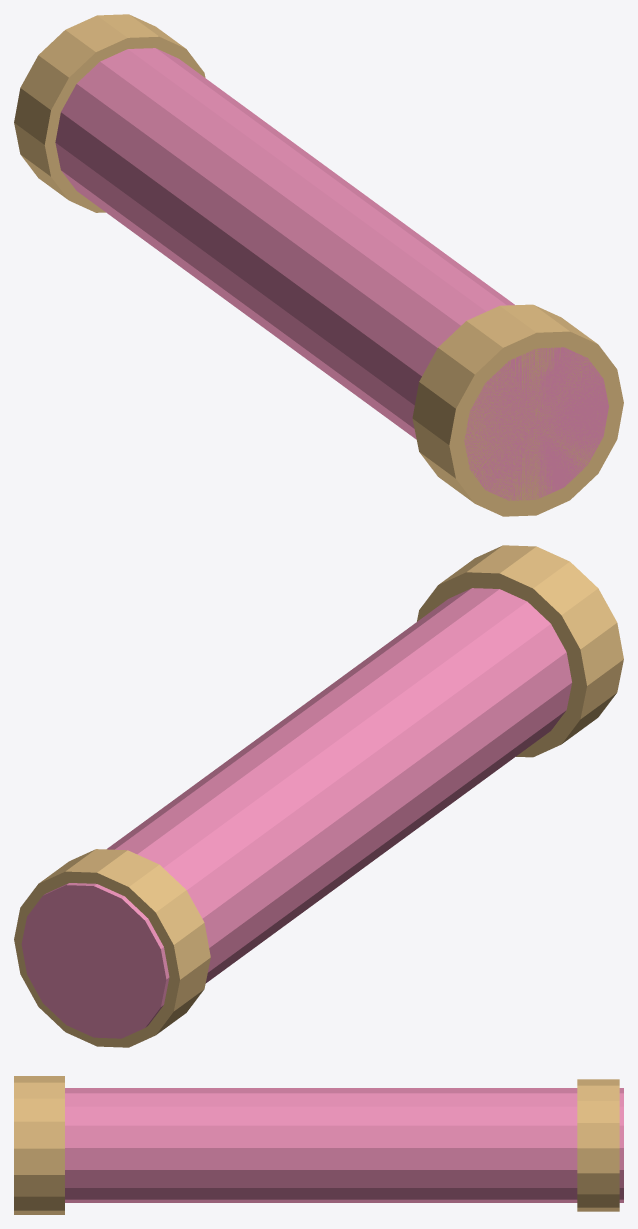
Rendered from BarrelExtender.obj.
The picture shows the model from 3 angles, top to bottom: view 1: azimuth 30°, elevation 25°; view 2: azimuth 150°, elevation 25°; view 3: azimuth 270°, elevation 25°; orthographic projection. The views are drawn at different scales.
Parts seen in each view (by area): view 1: BarrelExtender_Body, BarrelExtender_Detail; view 2: BarrelExtender_Body, BarrelExtender_Detail; view 3: BarrelExtender_Body, BarrelExtender_Detail.
Part boxes in pixels (<box>): BarrelExtender_Body: <box>55,48,608,500</box>; BarrelExtender_Detail: <box>14,14,623,516</box>; BarrelExtender_Body: <box>21,588,571,1038</box>; BarrelExtender_Detail: <box>14,545,623,1047</box>; BarrelExtender_Body: <box>65,1088,623,1202</box>; BarrelExtender_Detail: <box>14,1076,619,1214</box>.
Bounding box in the file's own units: 0.164 × 0.164 × 0.72.
